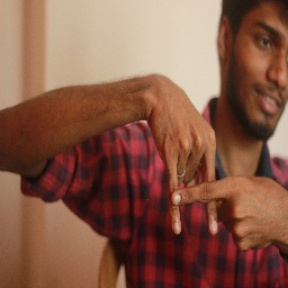H: (145, 139, 246, 243)
